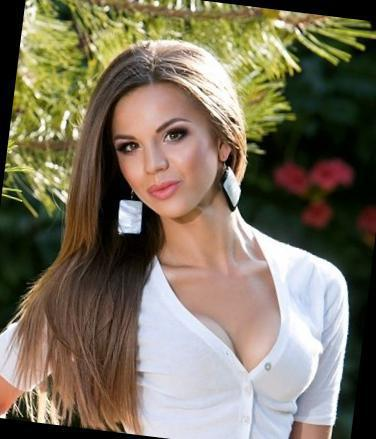Sober: (114, 97, 216, 218)
